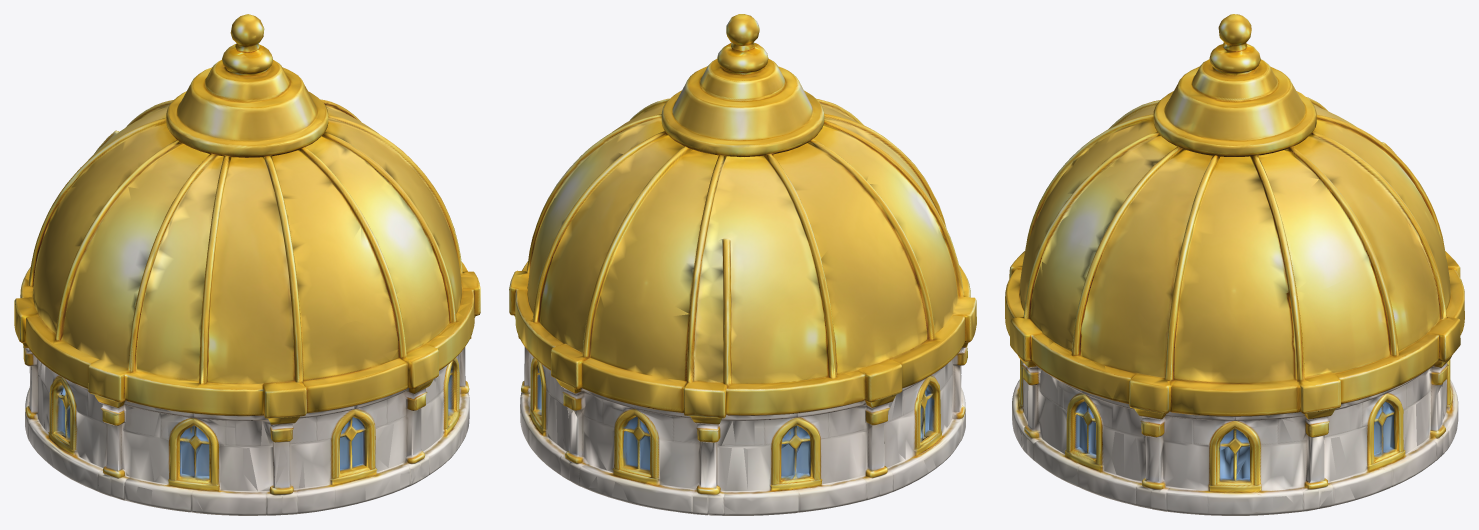
Rendered from HaloPart_CathDome_HD_LOD.glb.
The picture shows the model from 3 angles, left to right: view 1: azimuth 30°, elevation 25°; view 2: azimuth 150°, elevation 25°; view 3: azimuth 270°, elevation 25°; orthographic projection.
Visible parts, largest first — view 1: tripo_node_fa55963e-31a5-4200-b778-d3dc480b94e0; view 2: tripo_node_fa55963e-31a5-4200-b778-d3dc480b94e0; view 3: tripo_node_fa55963e-31a5-4200-b778-d3dc480b94e0.
Part boxes in pixels (x1=…): tripo_node_fa55963e-31a5-4200-b778-d3dc480b94e0: x1=14, y1=14, x2=480, y2=515; tripo_node_fa55963e-31a5-4200-b778-d3dc480b94e0: x1=509, y1=14, x2=976, y2=515; tripo_node_fa55963e-31a5-4200-b778-d3dc480b94e0: x1=1005, y1=14, x2=1464, y2=515.
Bounding box in the file's own units: 0.9801 × 0.9569 × 0.979.
Materials: 1 (1 with a texture image).
